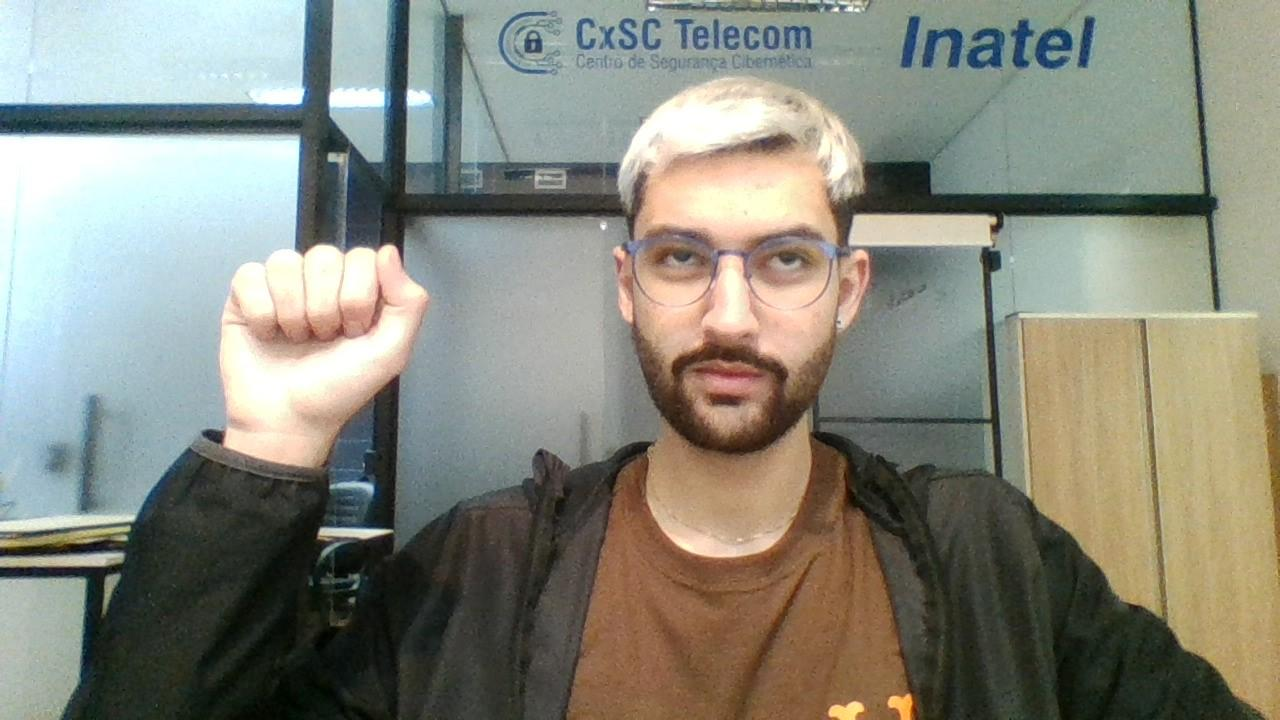A: (214, 232, 432, 434)
